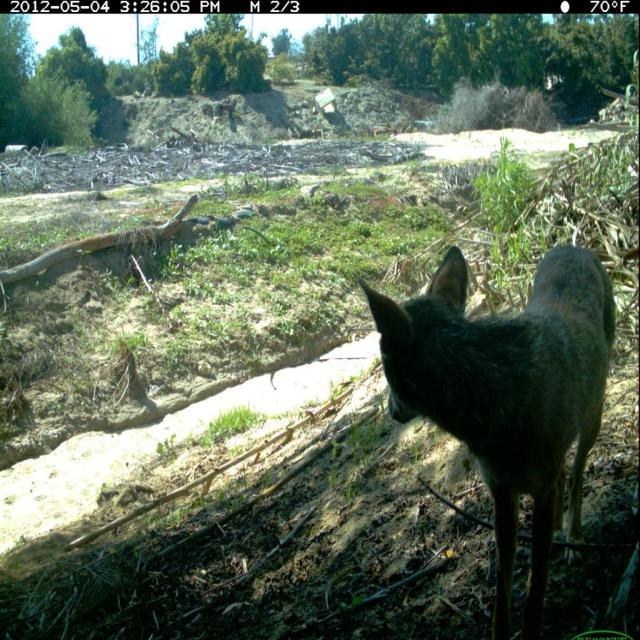coyote: (347, 229, 624, 640)
